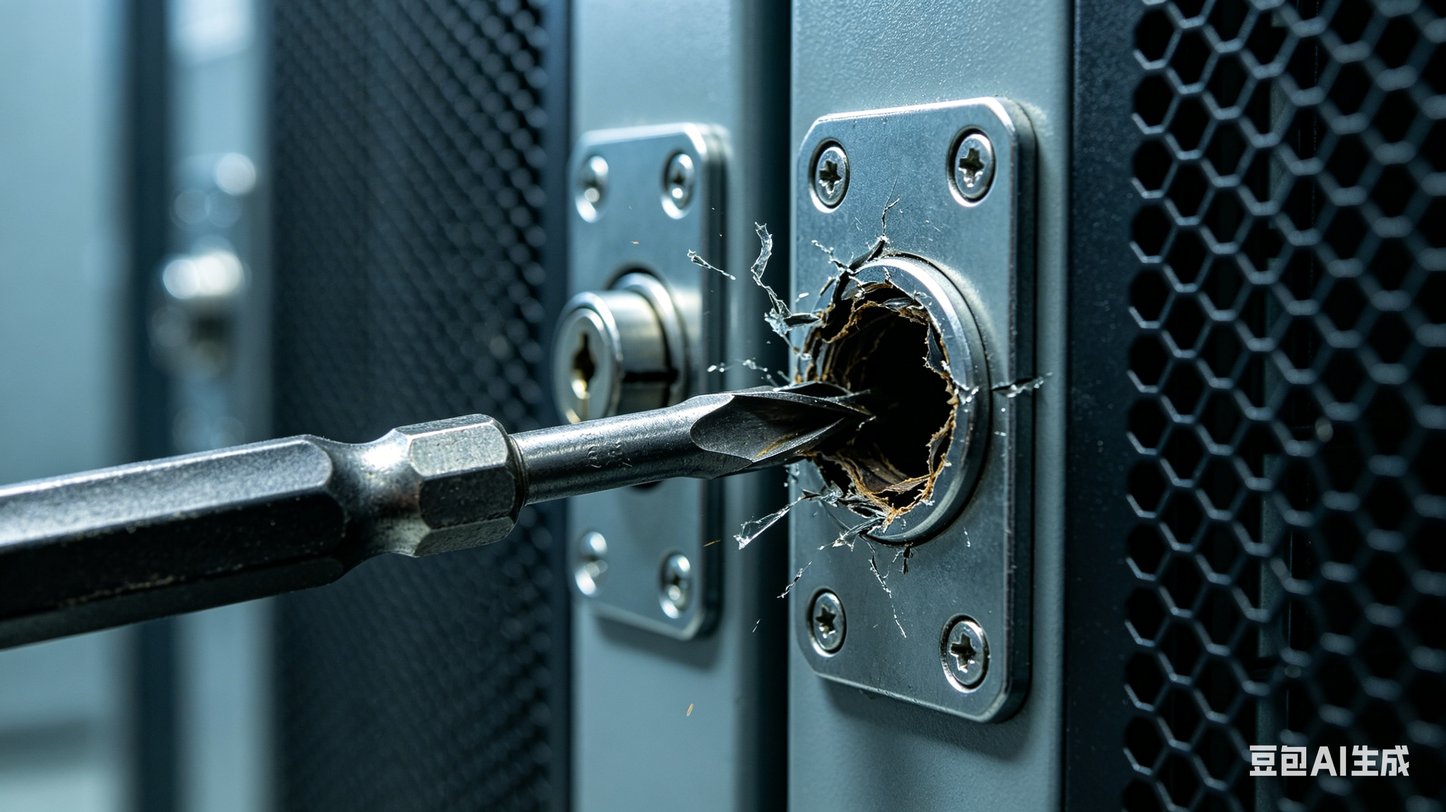BadLock: (779, 261, 983, 552)
